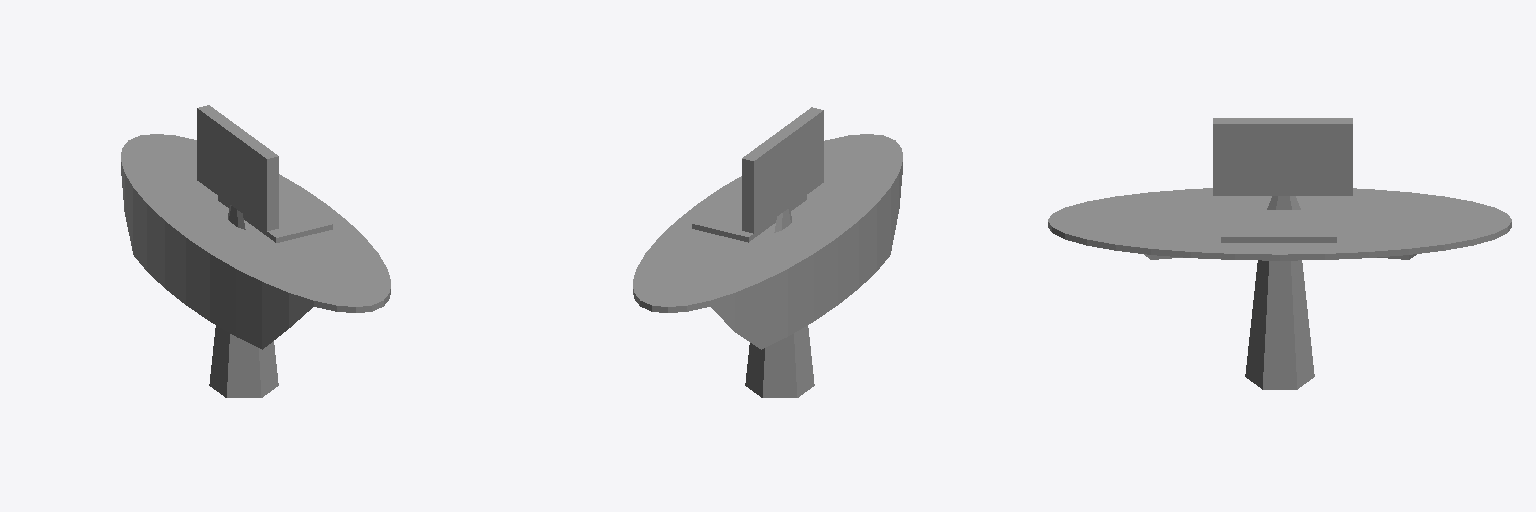
File: Lecturn.mtl.obj
3 views of the same model, side by side, from view 1: azimuth 30°, elevation 25°; view 2: azimuth 150°, elevation 25°; view 3: azimuth 270°, elevation 25° (orthographic).
Visible parts, largest first — view 1: Lecturn_Cylinder.000; view 2: Lecturn_Cylinder.000; view 3: Lecturn_Cylinder.000.
Boxes of the visible parts, x1,y1,x2,y2 form: Lecturn_Cylinder.000: [121, 105, 390, 397]; Lecturn_Cylinder.000: [633, 107, 902, 397]; Lecturn_Cylinder.000: [1048, 118, 1511, 389].
Bounding box in the file's own units: 1.7 × 2.94 × 4.89.